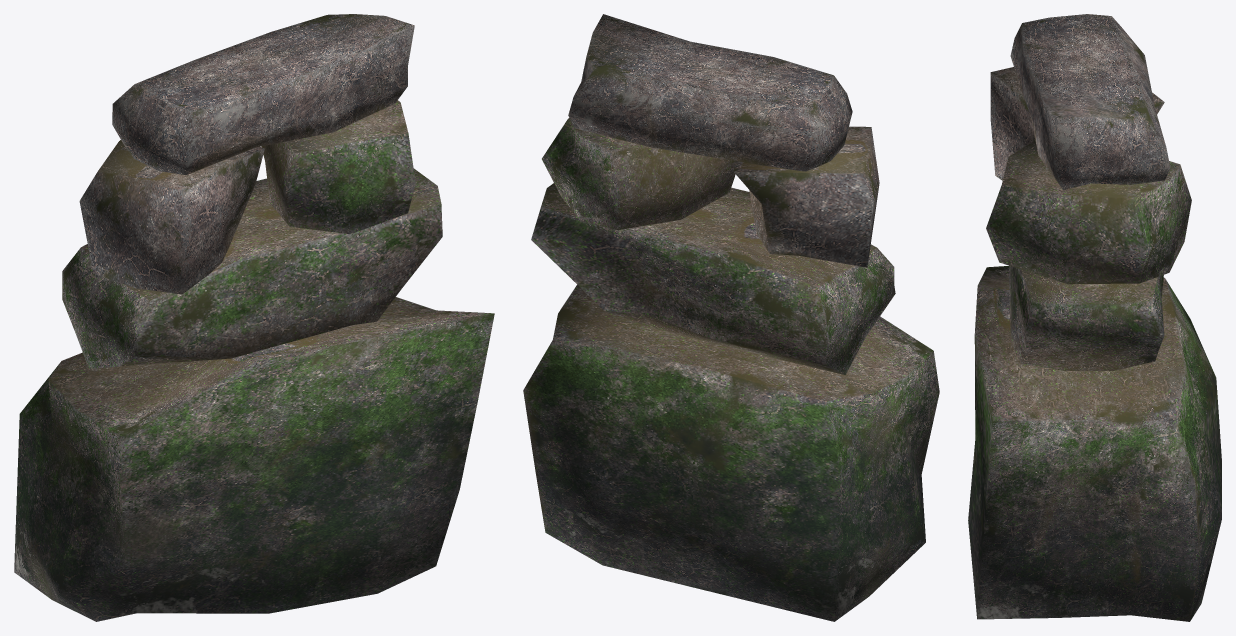
Rendered from SM_Sugu02a.fbx.
3 renders of one model, left to right at view 1: azimuth 30°, elevation 25°; view 2: azimuth 150°, elevation 25°; view 3: azimuth 270°, elevation 25°, orthographic. The views are drawn at different scales.
Visible parts, largest first — view 1: SM_Sugu02a; view 2: SM_Sugu02a; view 3: SM_Sugu02a.
Part boxes in pixels (<box>): SM_Sugu02a: <box>14,14,494,621</box>; SM_Sugu02a: <box>523,14,939,621</box>; SM_Sugu02a: <box>968,14,1221,621</box>.
Bounding box in the file's own units: 138 × 75.59 × 172.
1 material, 1 textured.
